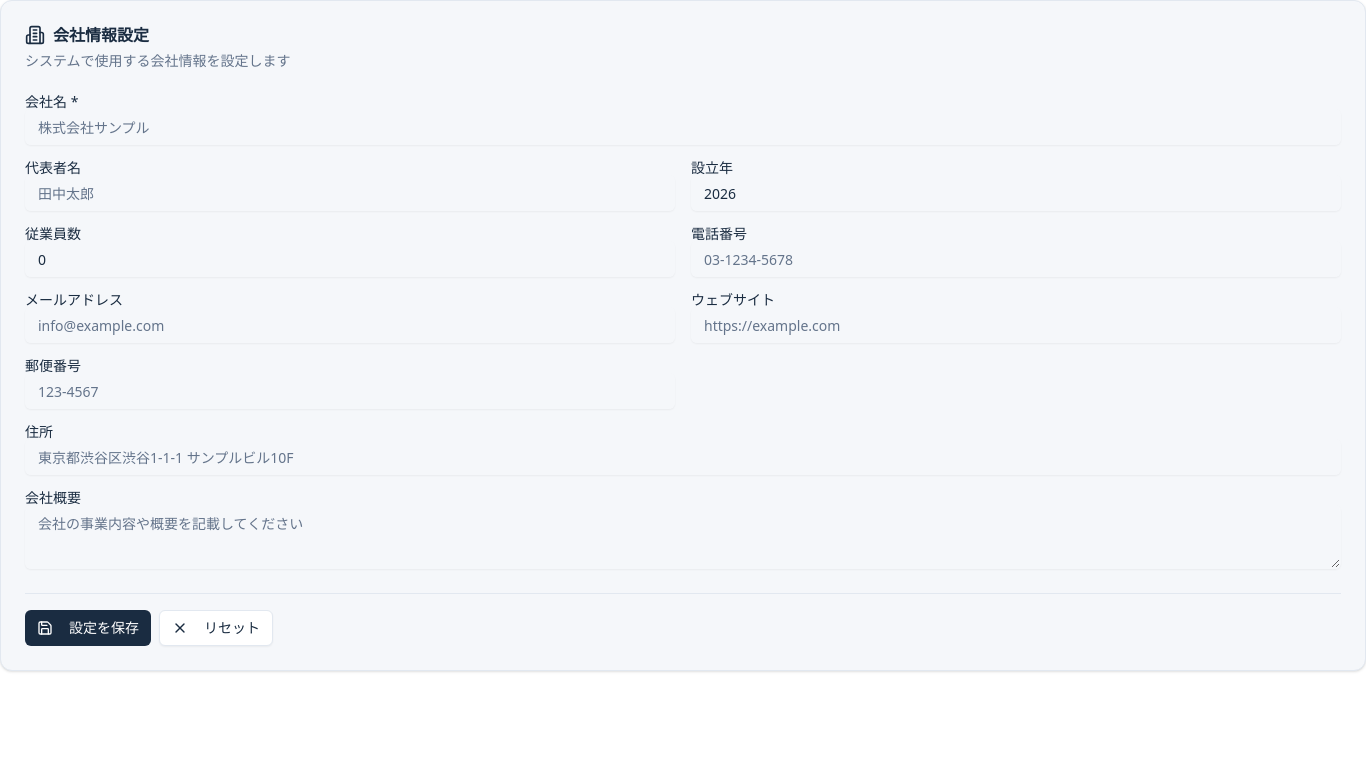
Test: CompanySettings › validates email format
Type "テスト株式会社" into the field labelled "会社名 *" at (683, 127), box [25,109,1341,145]
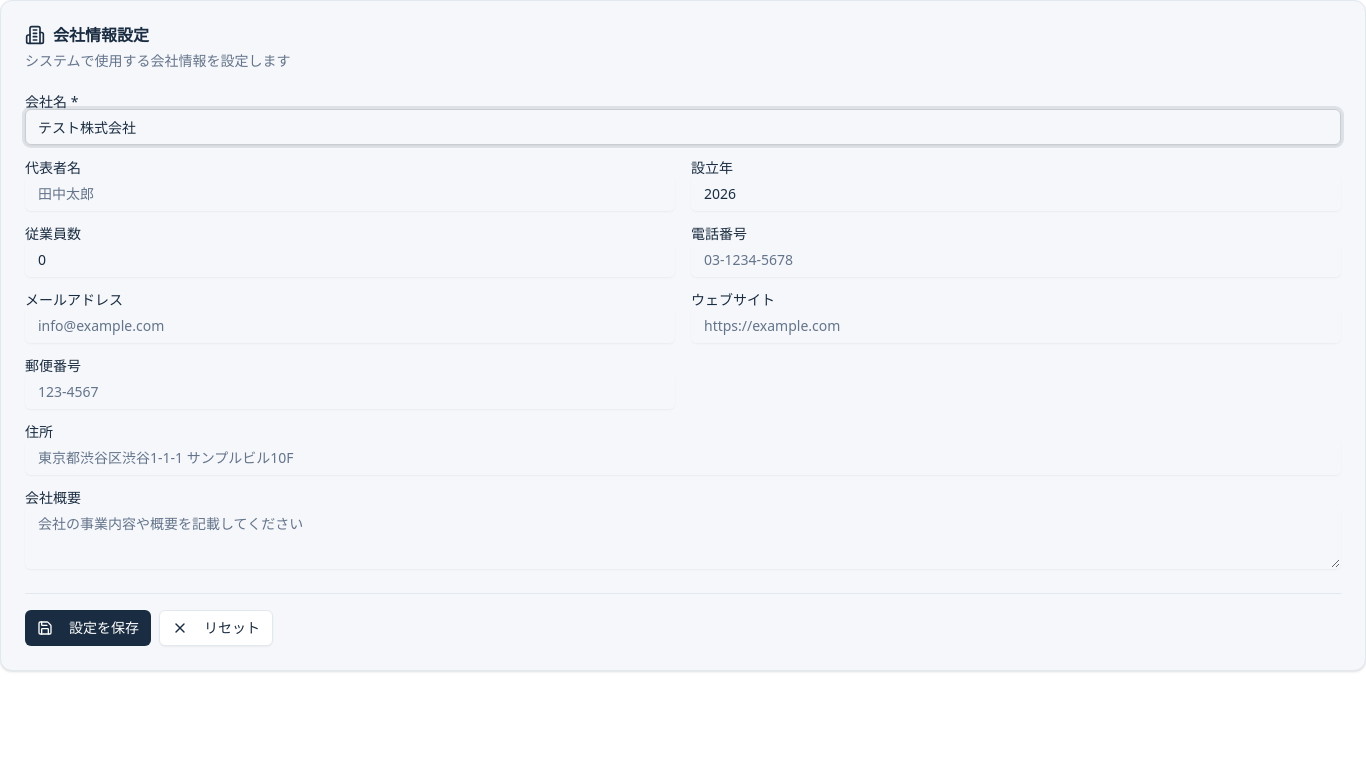
Type "invalid-email" into the field labelled "メールアドレス" at (350, 325), box [25,307,675,343]
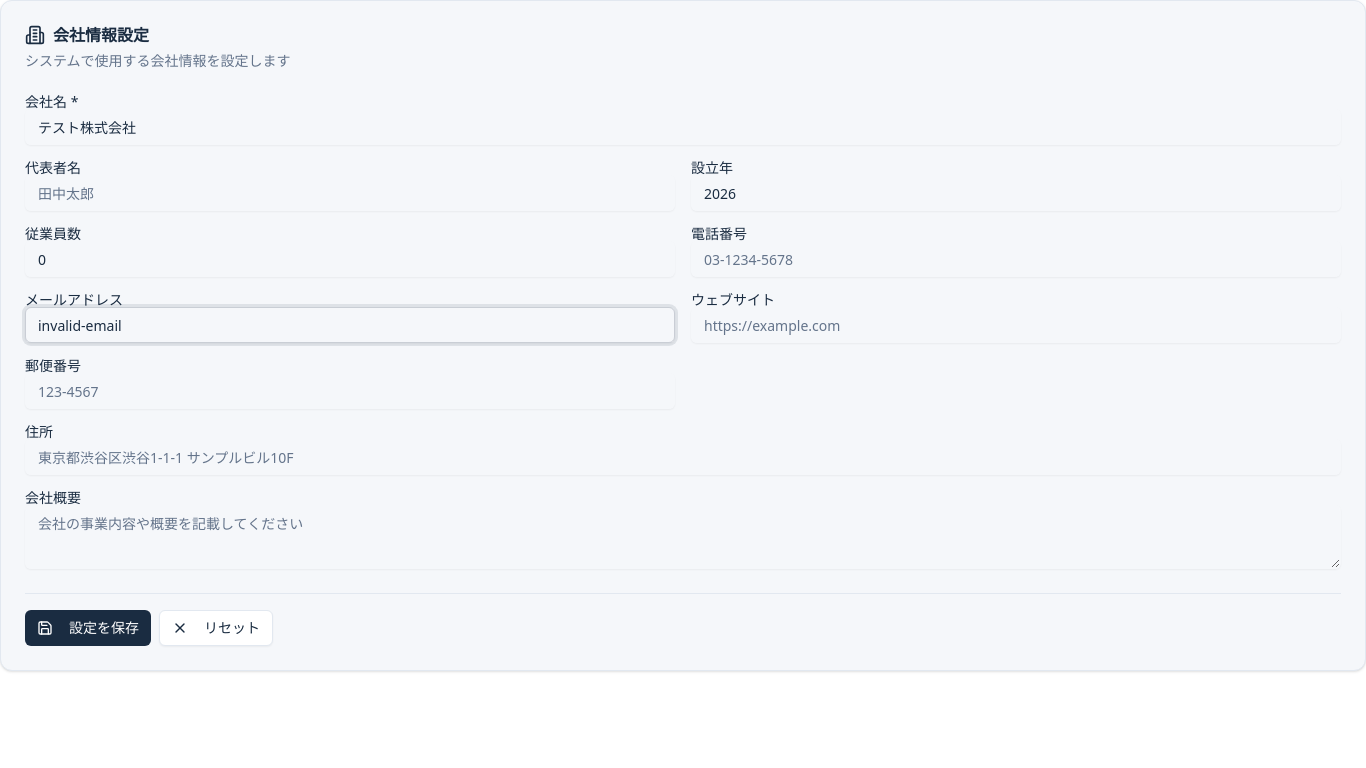
Click the button "設定を保存" at (88, 628), box [25,610,151,646]
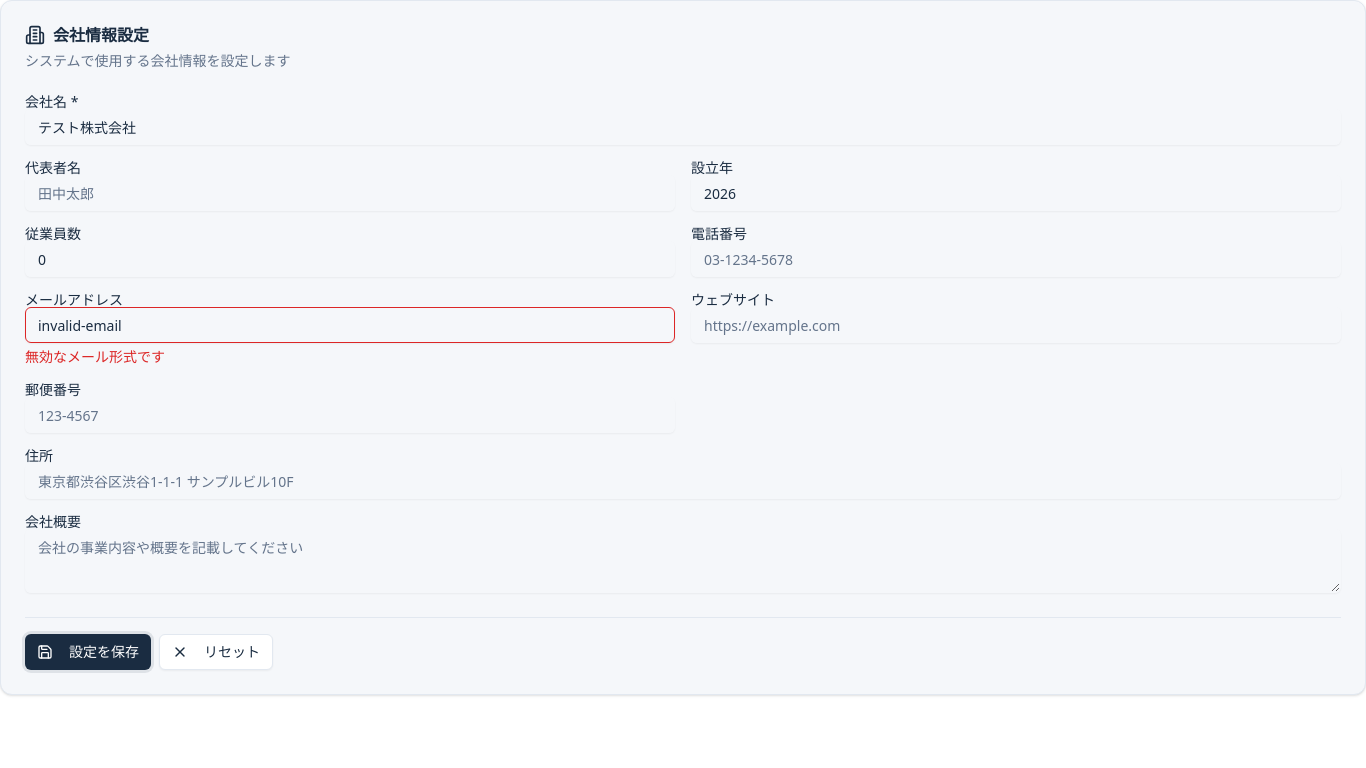
Check: the text "無効なメール形式です" is shown, box [25,347,165,366]
